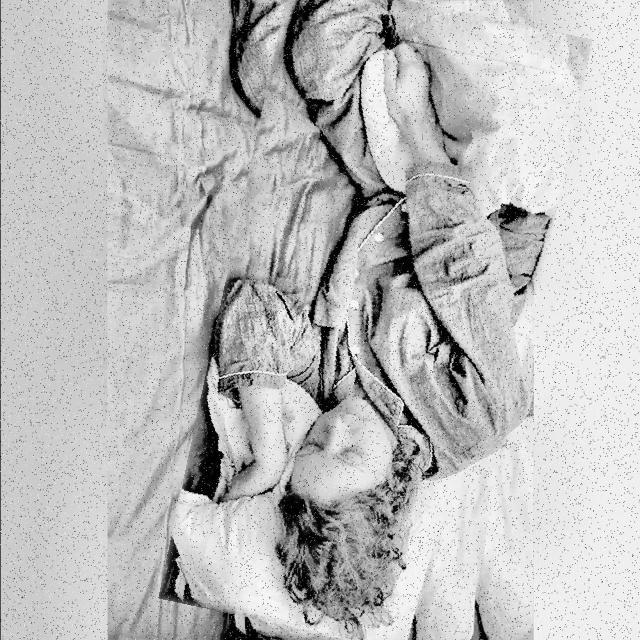Not_Supine: (215, 0, 547, 638)
